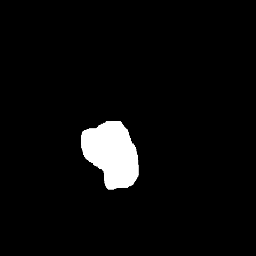mass: (81, 122, 137, 186)
